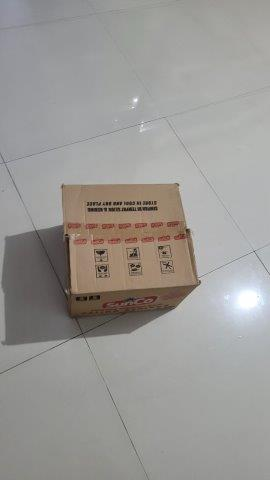kardus: (61, 185, 197, 319)
